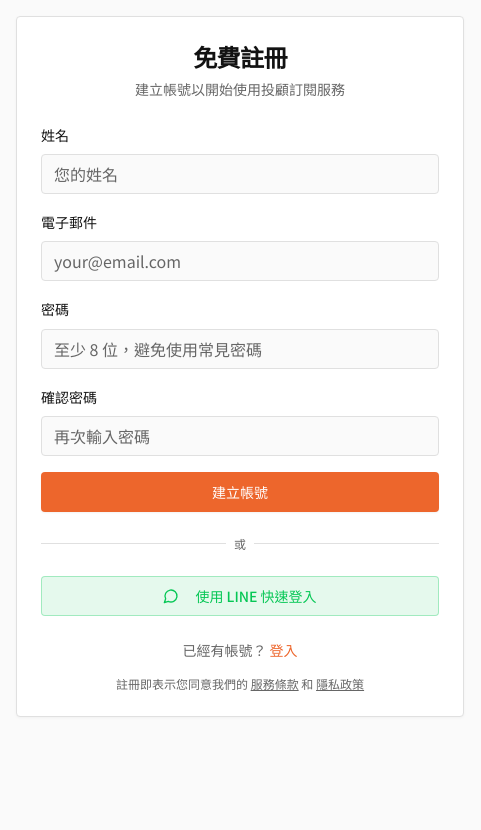
Register form validation › clears name error after typing
The image size is (481, 830).
Submit the form "建立帳號", box [41,123,439,512]
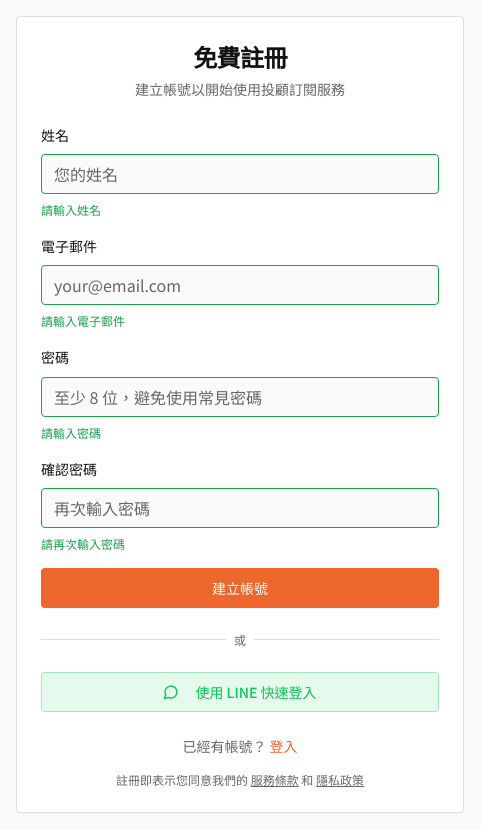
Expected: the text "請輸入姓名" is shown, [41,201,101,218]
Type "A" into the field labelled "姓名". click: (240,174)
box: [41,154,439,194]
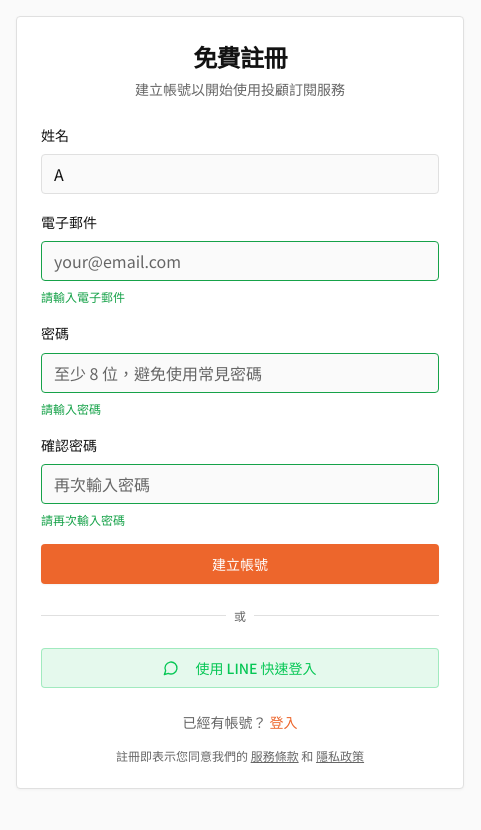
Expected: the text "請輸入姓名" is gone
